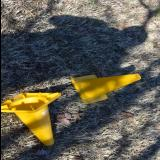cone: (0, 92, 61, 146), (70, 73, 140, 105)
